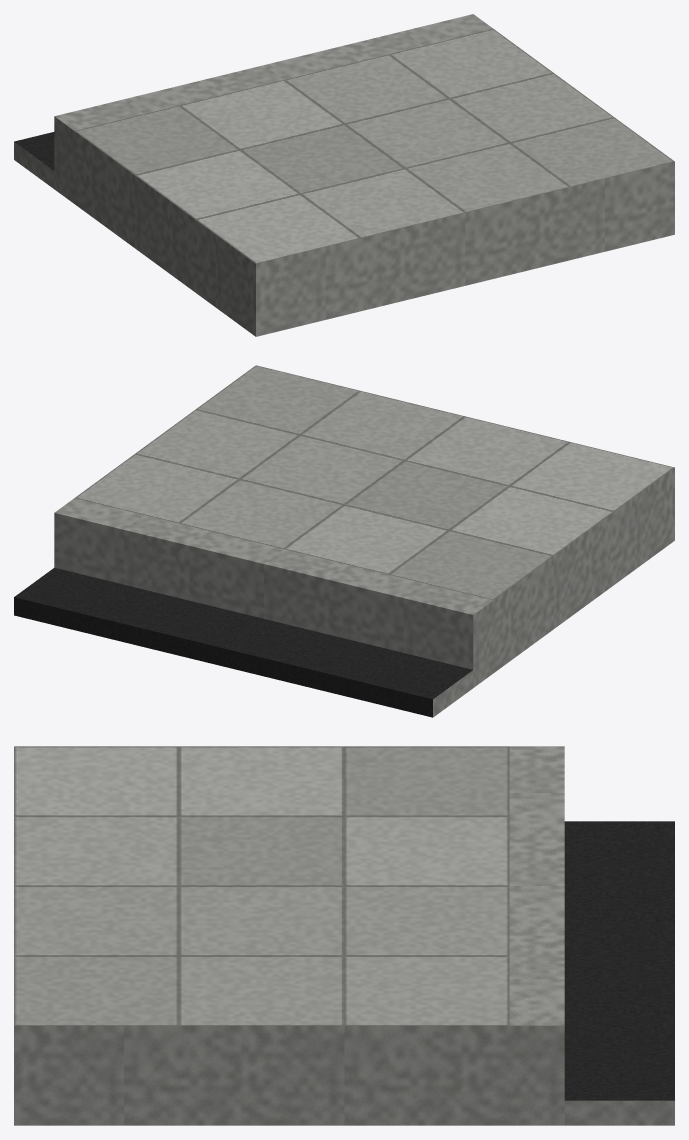
Rendered from sidewalk_curb_120.glb.
3 renders of one model, top to bottom at view 1: azimuth 30°, elevation 25°; view 2: azimuth 150°, elevation 25°; view 3: azimuth 270°, elevation 25°, orthographic. The views are drawn at different scales.
Parts seen in each view (by area): view 1: sidewalk_curb_120-col; view 2: sidewalk_curb_120-col; view 3: sidewalk_curb_120-col.
Boxes of the visible parts, x1=… form: sidewalk_curb_120-col: x1=14, y1=14, x2=674, y2=336; sidewalk_curb_120-col: x1=14, y1=365, x2=674, y2=717; sidewalk_curb_120-col: x1=14, y1=746, x2=674, y2=1125.
Size of the model in its own units: 1.2 by 0.2 by 1.2.
Materials: 3 (3 with a texture image).
